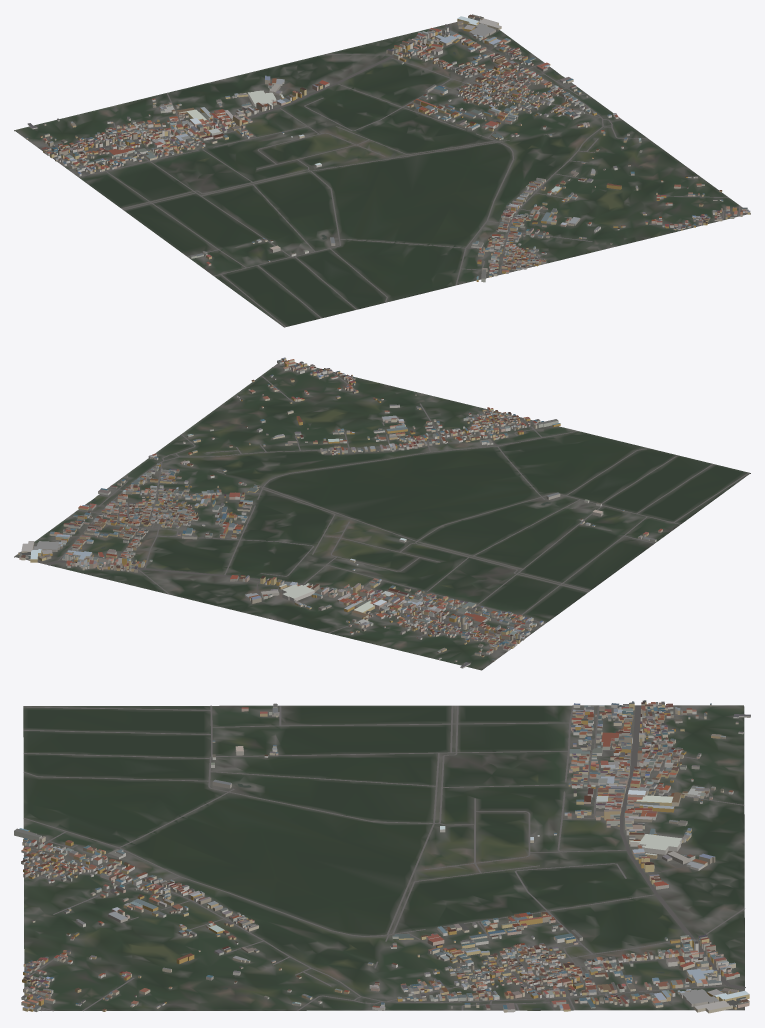
3 views of the same model, one above another, from view 1: azimuth 30°, elevation 25°; view 2: azimuth 150°, elevation 25°; view 3: azimuth 270°, elevation 25° (orthographic). The views are drawn at different scales.
Parts seen in each view (by area): view 1: ground, buildings, roads; view 2: ground, buildings, roads; view 3: ground, buildings, roads.
Boxes of the visible parts, x1,y1,x2,y2 form: ground: (14,16,750,327); buildings: (26,14,750,282); roads: (48,24,741,327); ground: (14,360,750,670); buildings: (18,357,662,668); roads: (46,364,749,651); ground: (23,705,744,1010); buildings: (14,700,750,1013); roads: (23,705,745,1011).
Size of the model in its own units: 1419 by 26.07 by 1433.
